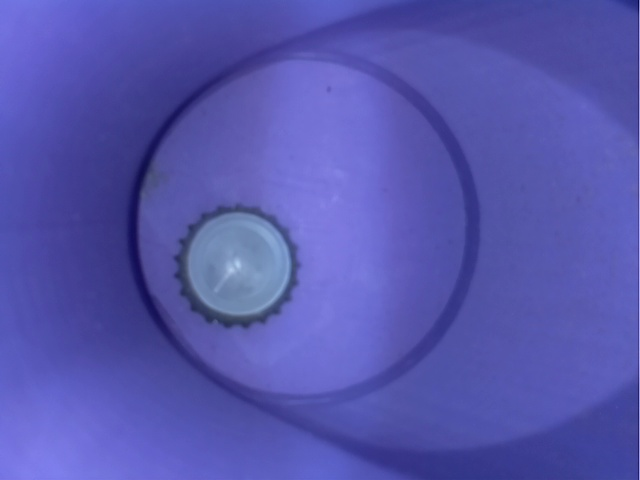capsule: (163, 201, 314, 336)
